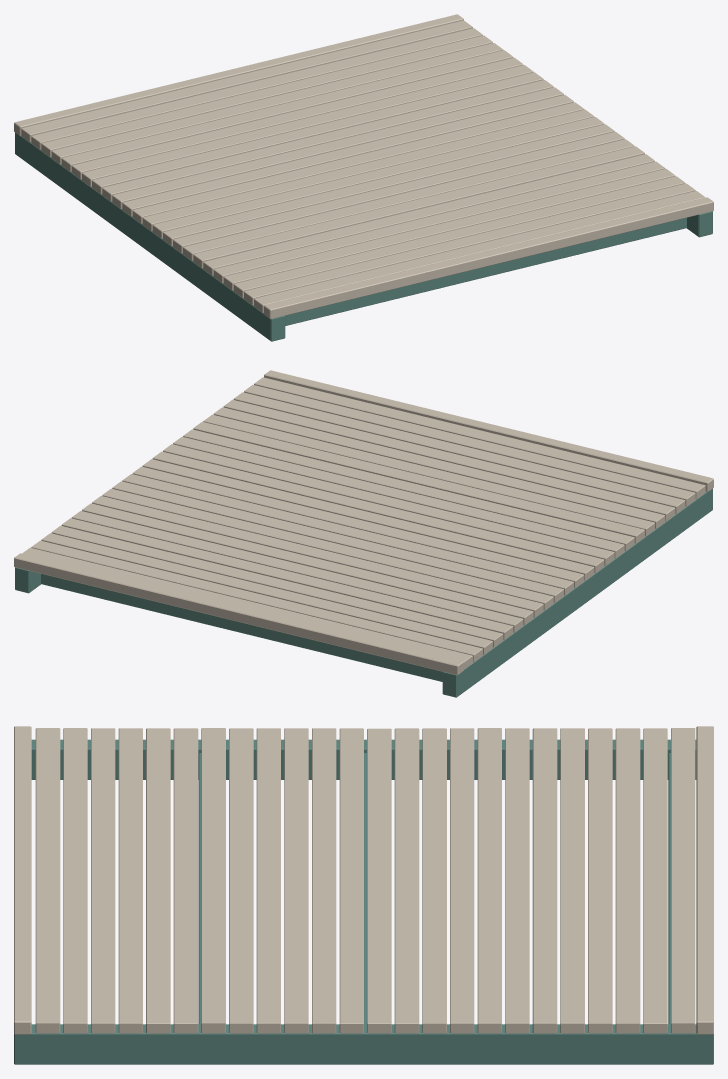
File: amusement-arcade-and-seaside-pier-pier-deck-module-e8186e39__35386.glb
3 renders of one model, top to bottom at view 1: azimuth 30°, elevation 25°; view 2: azimuth 150°, elevation 25°; view 3: azimuth 270°, elevation 25°, orthographic. The views are drawn at different scales.
Parts seen in each view (by area): view 1: pier-deck-module; view 2: pier-deck-module; view 3: pier-deck-module.
Boxes of the visible parts, left/top/right/bottom form: pier-deck-module: left=14, top=14, right=713, bottom=341; pier-deck-module: left=14, top=370, right=713, bottom=697; pier-deck-module: left=14, top=726, right=713, bottom=1064.
Size of the model in its own units: 4 by 0.2801 by 4.
